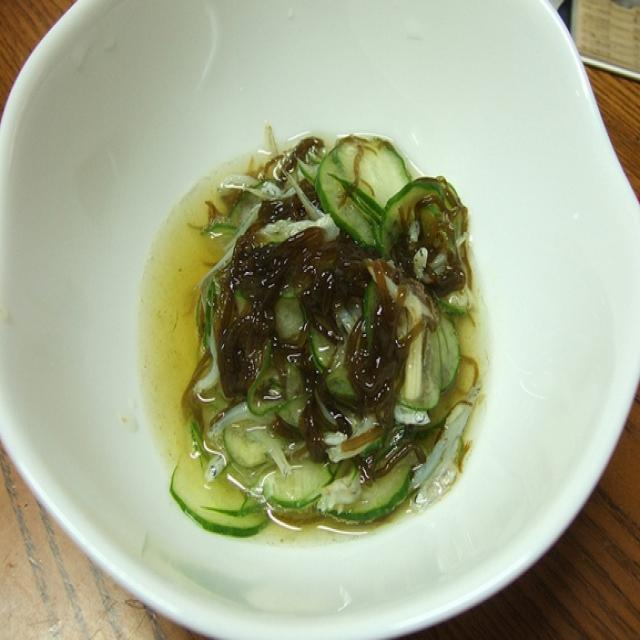蔬菜料理: (28, 21, 609, 612)
